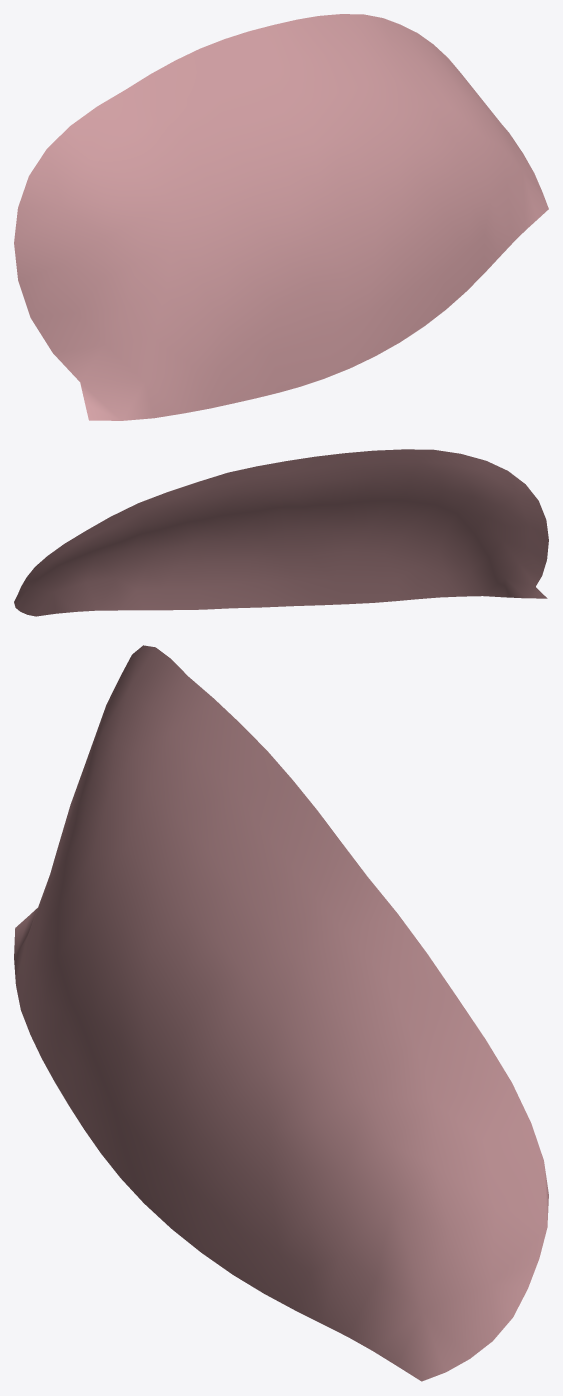
The model's file is fma320586_mm904.glb.
3 views of the same model, one above another, from view 1: azimuth 30°, elevation 25°; view 2: azimuth 150°, elevation 25°; view 3: azimuth 270°, elevation 25° (orthographic). The views are drawn at different scales.
Parts seen in each view (by area): view 1: FMA320586_MM904; view 2: FMA320586_MM904; view 3: FMA320586_MM904.
Boxes of the visible parts, <box> form: FMA320586_MM904: <box>14,14,548,420</box>; FMA320586_MM904: <box>14,449,548,616</box>; FMA320586_MM904: <box>14,645,548,1381</box>.
Bounding box in the file's own units: 0.00852 × 0.00387 × 0.00477.
